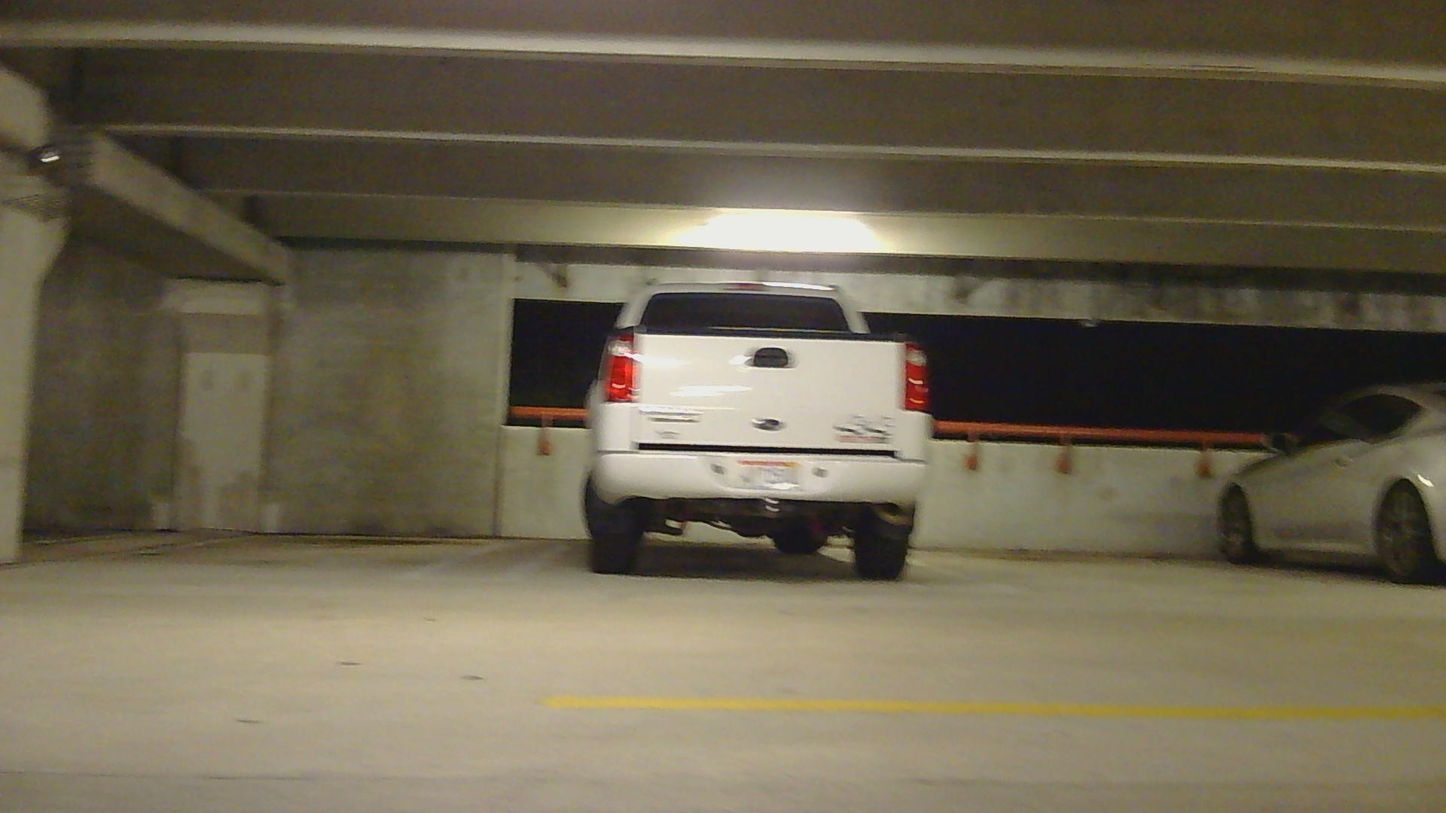empty_spot: (0, 450, 534, 590), (901, 458, 1408, 605)
occupied_spot: (564, 266, 939, 586), (1205, 364, 1445, 607)
